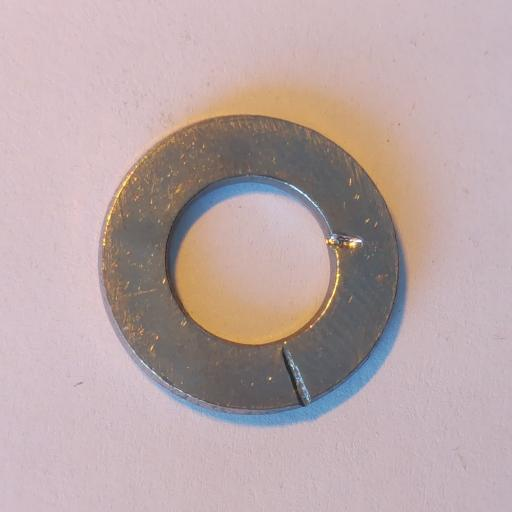scratch: (282, 345, 311, 406), (326, 234, 363, 250)
